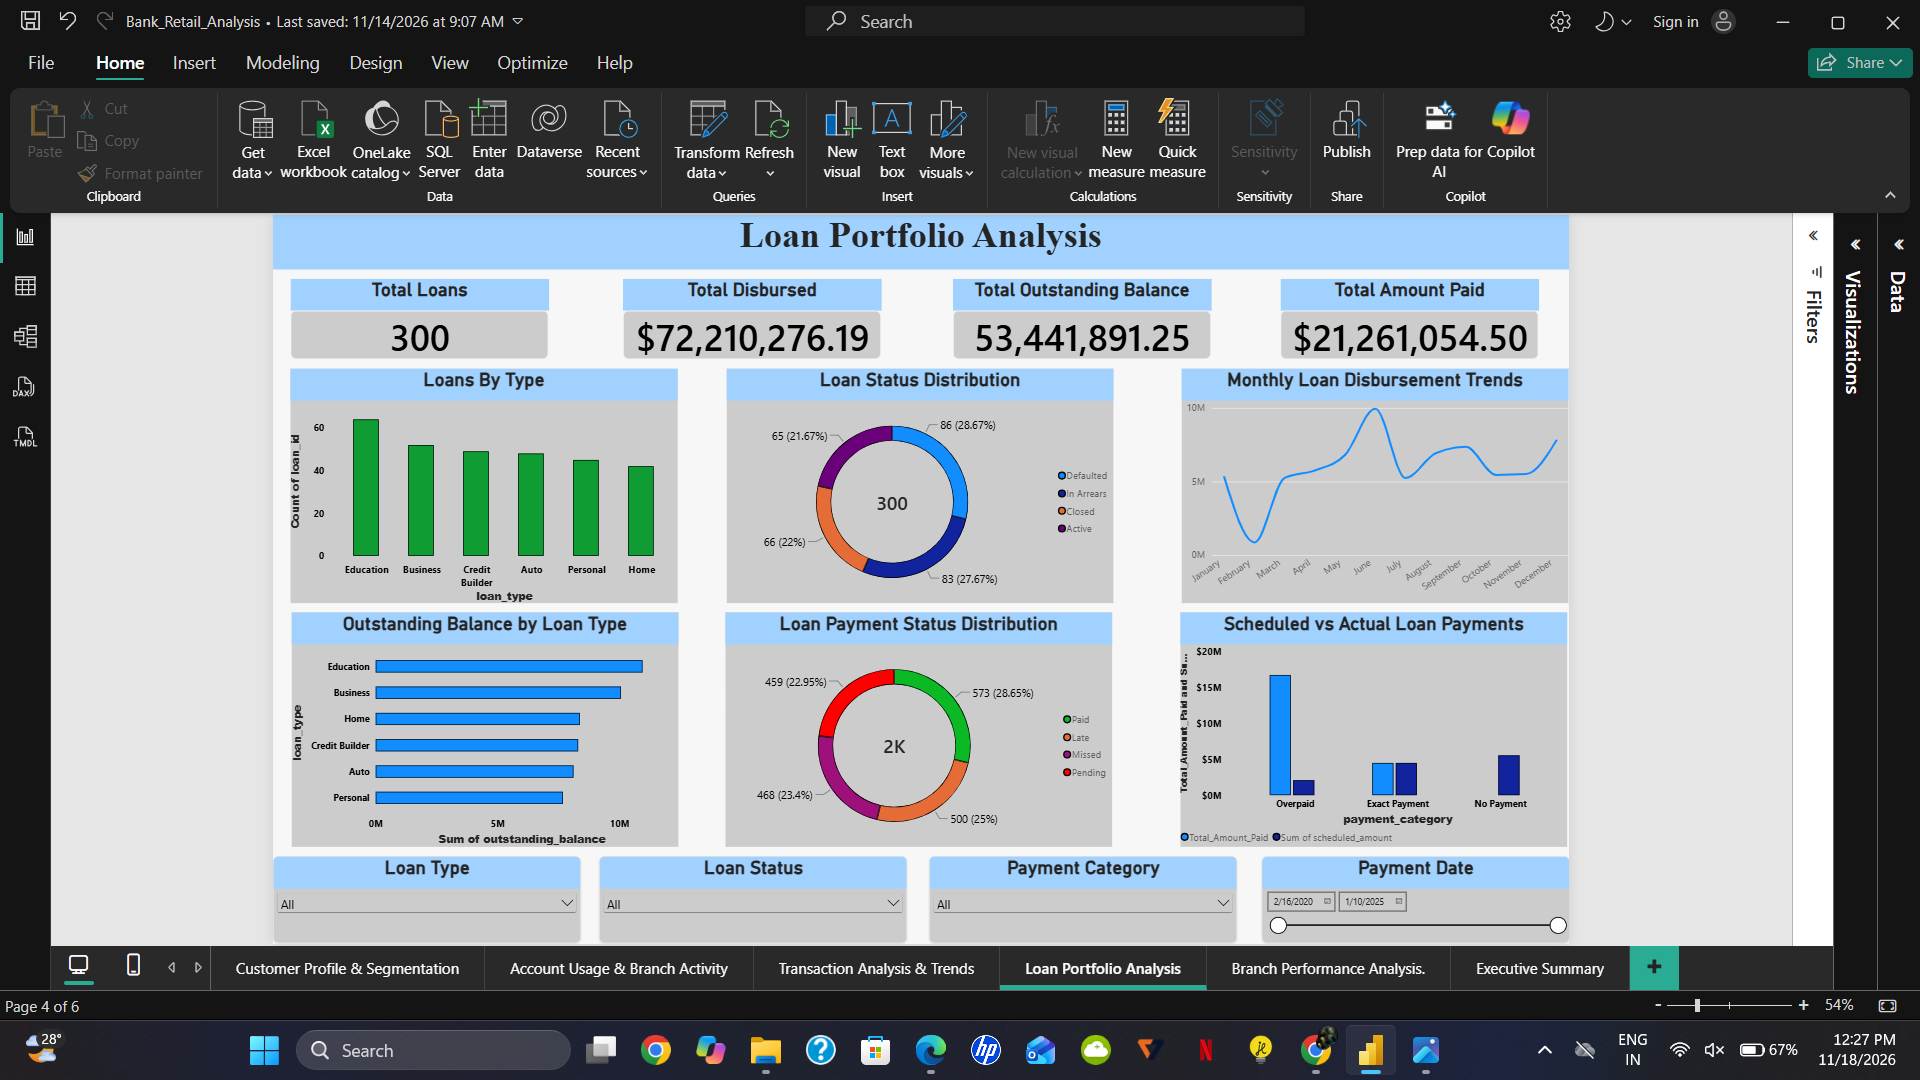

What the dashboard file says about the page in this screenshot:
{"tool":"powerbi","page":{"name":"Loan Portfolio Analysis","canvas":[1920,1080],"ordinal":3},"visuals":[{"type":"textbox","box":[0,0,1919.6,81],"z":0},{"type":"cardVisual","title":"Total Loans","fields":{"Data":["accounts.Total Loans"]},"box":[26.2,95.3,383,119.6],"z":1},{"type":"cardVisual","title":"Total Disbursed","fields":{"Data":["accounts.Total Disbursed"]},"box":[519.3,95.3,383,119.6],"z":2},{"type":"cardVisual","title":"Total Outstanding Balance","fields":{"Data":["Sum(loans.outstanding_balance)"]},"box":[1006.9,95.3,383,119.6],"z":3},{"type":"cardVisual","title":"Total Amount Paid","fields":{"Data":["loan_payments.Total_Amount_Paid"]},"box":[1492.6,95.3,383,119.6],"z":4},{"type":"clusteredColumnChart","title":"Loans By Type","fields":{"Category":["loans.loan_type"],"Y":["CountNonNull(loans.loan_id)"]},"box":[26.2,227.9,573.5,347.5],"z":5},{"type":"donutChart","title":"Loan Status Distribution","fields":{"Category":["loans.loan_status"],"Y":["Count(loans.loan_id)"]},"box":[672.5,227.9,573,347],"z":6},{"type":"lineChart","title":"Monthly Loan Disbursement Trends","fields":{"Category":["loans.disbursement_date.Variation.Date Hierarchy.Year","loans.disbursement_date.Variation.Date Hierarchy.Month"],"Y":["Sum(loans.principal_amount)"]},"box":[1346.9,227.9,573,347],"z":7},{"type":"clusteredBarChart","title":"Outstanding Balance by Loan Type","fields":{"Category":["loans.loan_type"],"Y":["Sum(loans.outstanding_balance)"]},"box":[28,588.4,573,347],"z":8},{"type":"donutChart","title":"Loan Payment Status Distribution","fields":{"Category":["loan_payments.status"],"Y":["CountNonNull(loan_payments.loan_id)"]},"box":[670.6,588.4,573,347],"z":9},{"type":"clusteredColumnChart","title":"Scheduled vs Actual Loan Payments","fields":{"Category":["loan_payments.payment_category"],"Y":["loan_payments.Total_Amount_Paid","Sum(loan_payments.scheduled_amount)"]},"box":[1345,588.4,573,347],"z":10},{"type":"slicer","title":"Loan Type","fields":{"Values":["loans.loan_type"]},"box":[0,950.8,455.8,128.9],"z":11},{"type":"slicer","title":"Loan Status","fields":{"Values":["loans.loan_status"]},"box":[483.8,950.8,455.8,128.9],"z":12},{"type":"slicer","title":"Payment Category","fields":{"Values":["loan_payments.payment_category"]},"box":[971.4,950.8,455.8,128.9],"z":13},{"type":"slicer","title":"Payment Date","fields":{"Values":["loan_payments.payment_date"]},"box":[1464.6,950.8,455.8,128.9],"z":14}]}

Visuals, with their boxes on the page's 1920x1080 design canvas (x1, y1, x2, y2). These are canvas units, not pixel positions in the 1920x1080 screenshot, which may show the page scaled, cropped or inside an application window:
textbox: (x1=0, y1=0, x2=1920, y2=81)
"Total Loans" cardVisual: (x1=26, y1=95, x2=409, y2=215)
"Total Disbursed" cardVisual: (x1=519, y1=95, x2=902, y2=215)
"Total Outstanding Balance" cardVisual: (x1=1007, y1=95, x2=1390, y2=215)
"Total Amount Paid" cardVisual: (x1=1493, y1=95, x2=1876, y2=215)
"Loans By Type" clusteredColumnChart: (x1=26, y1=228, x2=600, y2=575)
"Loan Status Distribution" donutChart: (x1=672, y1=228, x2=1246, y2=575)
"Monthly Loan Disbursement Trends" lineChart: (x1=1347, y1=228, x2=1920, y2=575)
"Outstanding Balance by Loan Type" clusteredBarChart: (x1=28, y1=588, x2=601, y2=935)
"Loan Payment Status Distribution" donutChart: (x1=671, y1=588, x2=1244, y2=935)
"Scheduled vs Actual Loan Payments" clusteredColumnChart: (x1=1345, y1=588, x2=1918, y2=935)
"Loan Type" slicer: (x1=0, y1=951, x2=456, y2=1080)
"Loan Status" slicer: (x1=484, y1=951, x2=940, y2=1080)
"Payment Category" slicer: (x1=971, y1=951, x2=1427, y2=1080)
"Payment Date" slicer: (x1=1465, y1=951, x2=1920, y2=1080)
